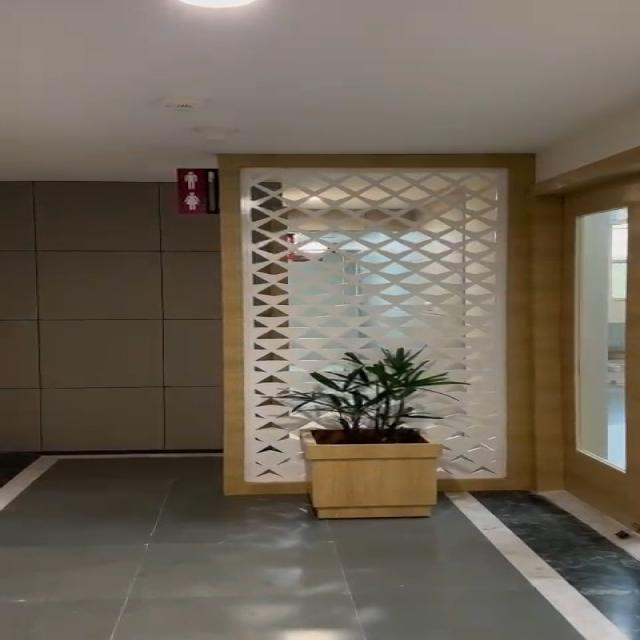door: (515, 188, 640, 516)
floor: (0, 522, 640, 640), (0, 445, 227, 527)
furniture: (278, 349, 451, 521)
